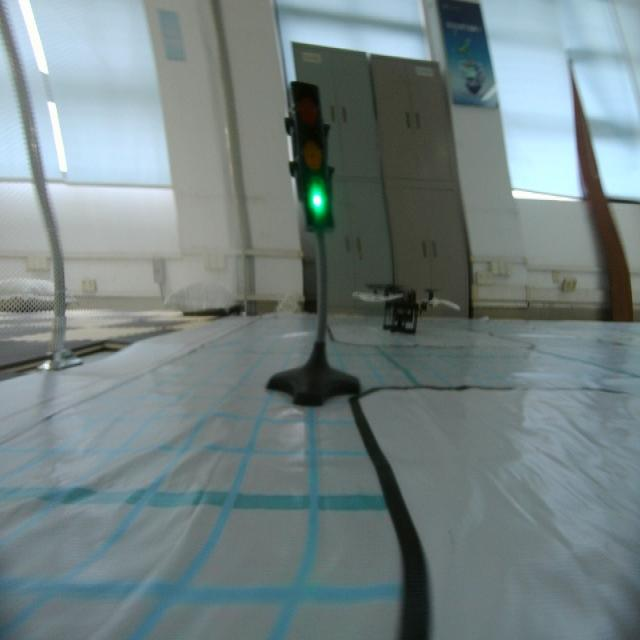green: (285, 81, 341, 234)
